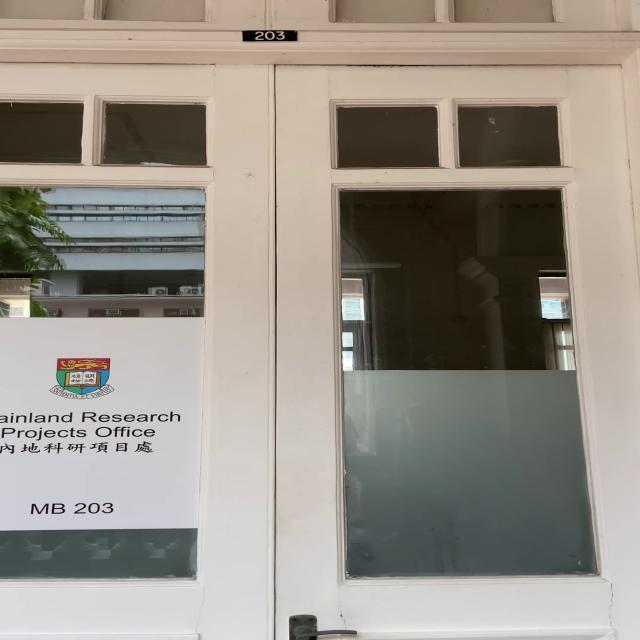room203: (238, 27, 302, 45)
room203Window: (19, 499, 121, 518)
